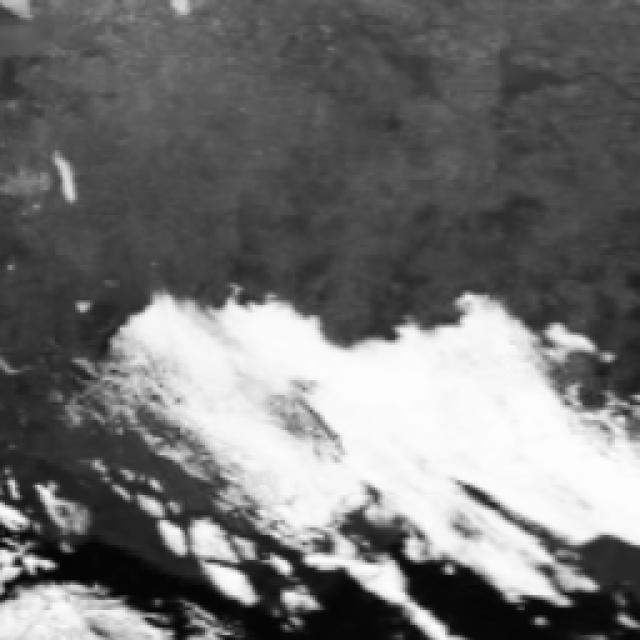CB: (249, 349, 538, 503)
